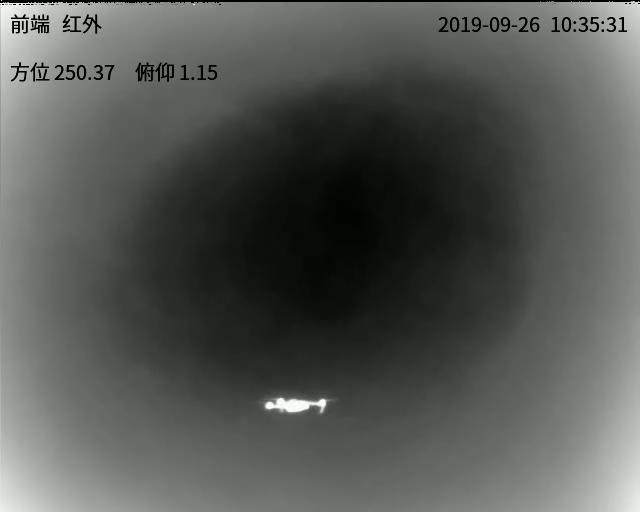uav: (259, 393, 327, 420)
